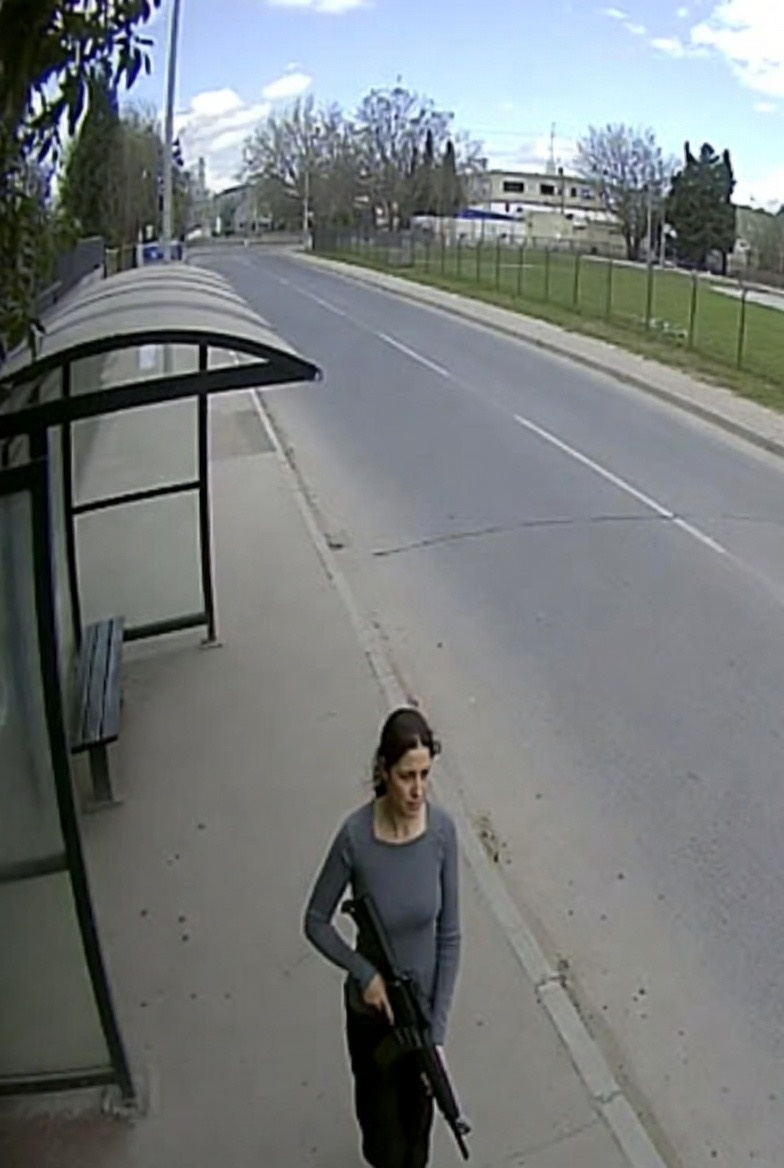gun: (337, 891, 505, 1150)
person: (324, 708, 478, 1168)
